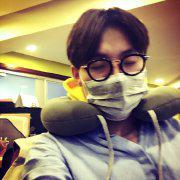OK: (82, 41, 149, 121)
